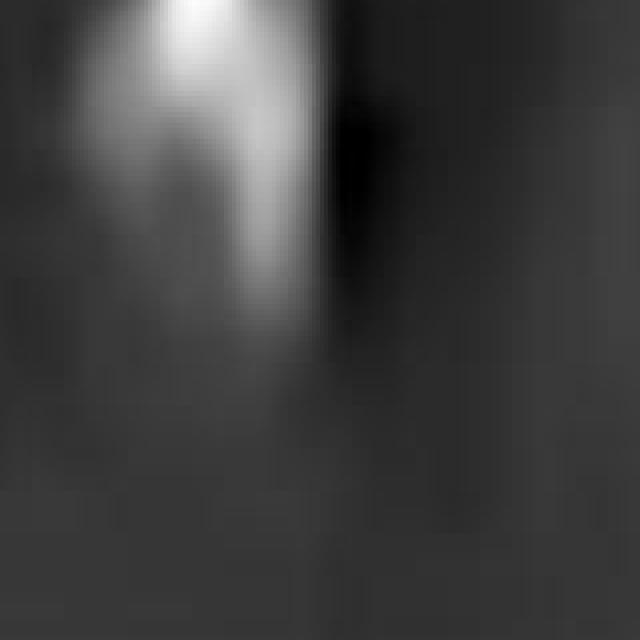person: (105, 1, 321, 348)
